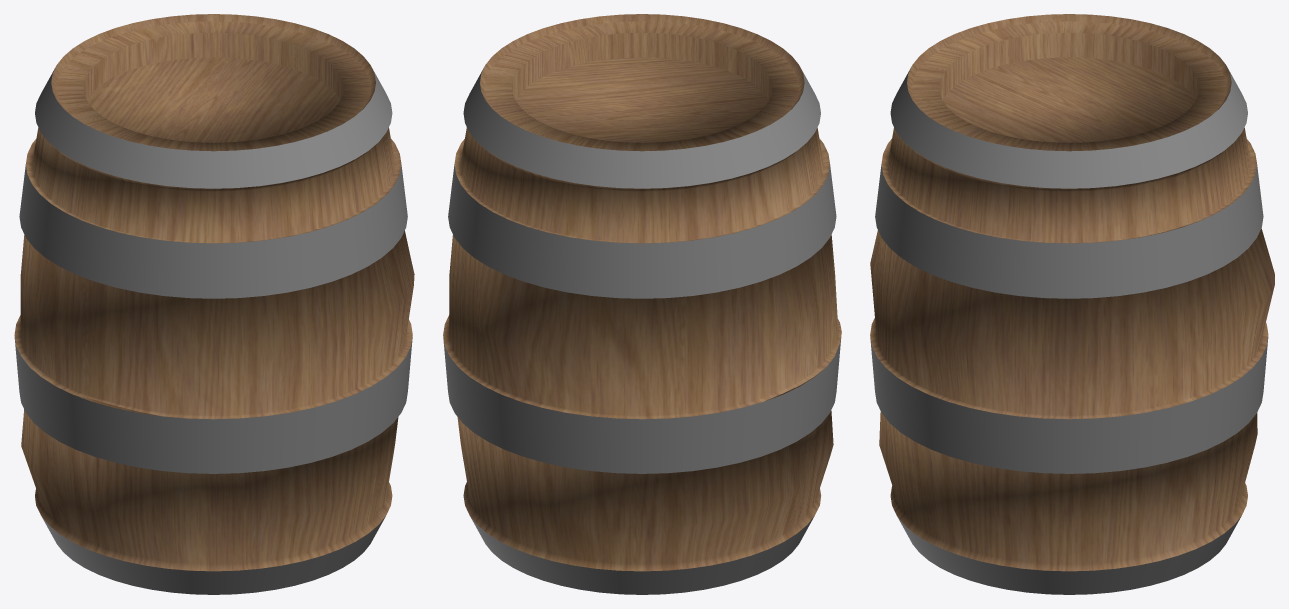
Rendered from Barrel.fbx.
3 views of the same model, side by side, from view 1: azimuth 30°, elevation 25°; view 2: azimuth 150°, elevation 25°; view 3: azimuth 270°, elevation 25° (orthographic).
Visible parts, largest first — view 1: BarrelBase, MetalRim 1, Metal Rim 2, MetalRim 4, Metal Rim 3; view 2: BarrelBase, MetalRim 1, Metal Rim 2, MetalRim 4, Metal Rim 3; view 3: BarrelBase, MetalRim 1, Metal Rim 2, MetalRim 4, Metal Rim 3.
Part boxes in pixels (left/top/right/bottom): BarrelBase: left=14, top=14, right=414, bottom=571; MetalRim 1: left=19, top=164, right=407, bottom=298; Metal Rim 2: left=14, top=337, right=412, bottom=473; MetalRim 4: left=35, top=66, right=392, bottom=188; Metal Rim 3: left=41, top=516, right=385, bottom=594; BarrelBase: left=443, top=14, right=841, bottom=571; MetalRim 1: left=448, top=164, right=836, bottom=298; Metal Rim 2: left=443, top=337, right=841, bottom=473; MetalRim 4: left=463, top=66, right=820, bottom=188; Metal Rim 3: left=470, top=516, right=814, bottom=594; BarrelBase: left=870, top=14, right=1274, bottom=571; MetalRim 1: left=875, top=164, right=1263, bottom=298; Metal Rim 2: left=870, top=337, right=1268, bottom=473; MetalRim 4: left=890, top=66, right=1247, bottom=188; Metal Rim 3: left=897, top=516, right=1241, bottom=594.
Size of the model in its own units: 148 by 181 by 149.
2 materials, 1 textured.
